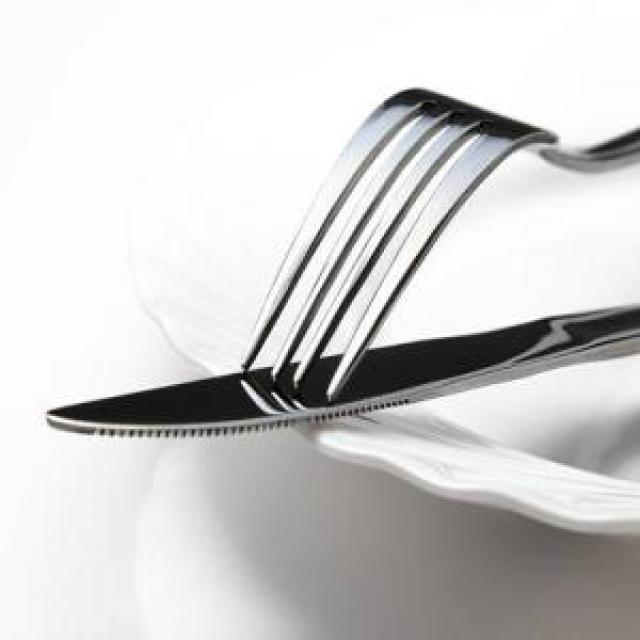knife: (45, 300, 638, 442)
